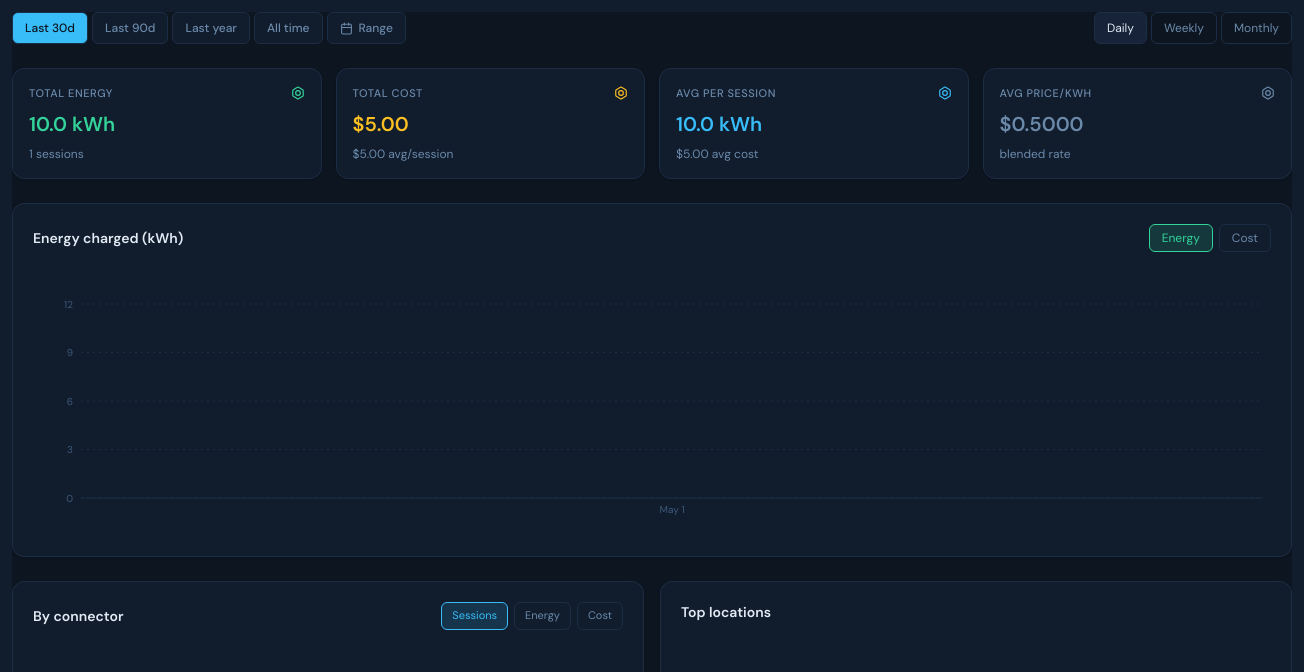
Test: SummaryPage › toggles chart heading when chart-type button is clicked
Expected: the heading "Energy charged (kWh)" is shown, [33,228,183,248]
Click the button "Cost" in the row of "Energy charged (kWh)" at [1245, 238], box [1219,224,1271,252]
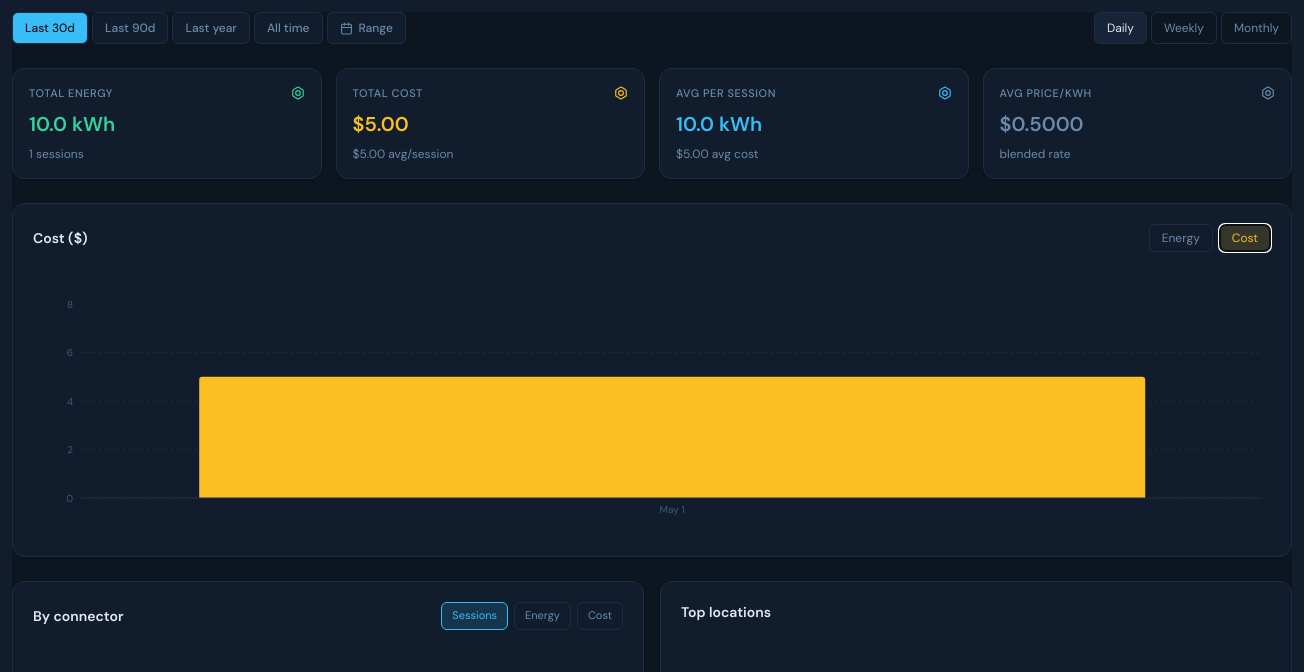
Now the heading "Cost ($)" is shown, box [33,228,88,248]
